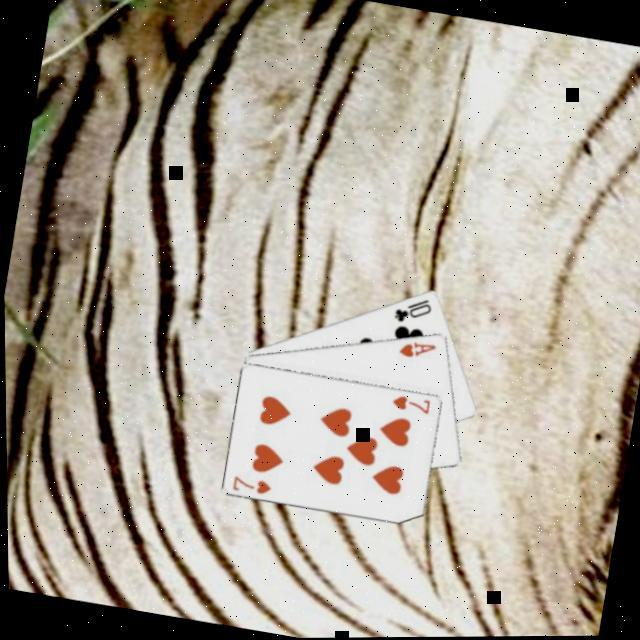10C: (389, 293, 436, 332)
7H: (388, 393, 434, 420), (228, 474, 274, 501)
AH: (395, 337, 439, 366)
